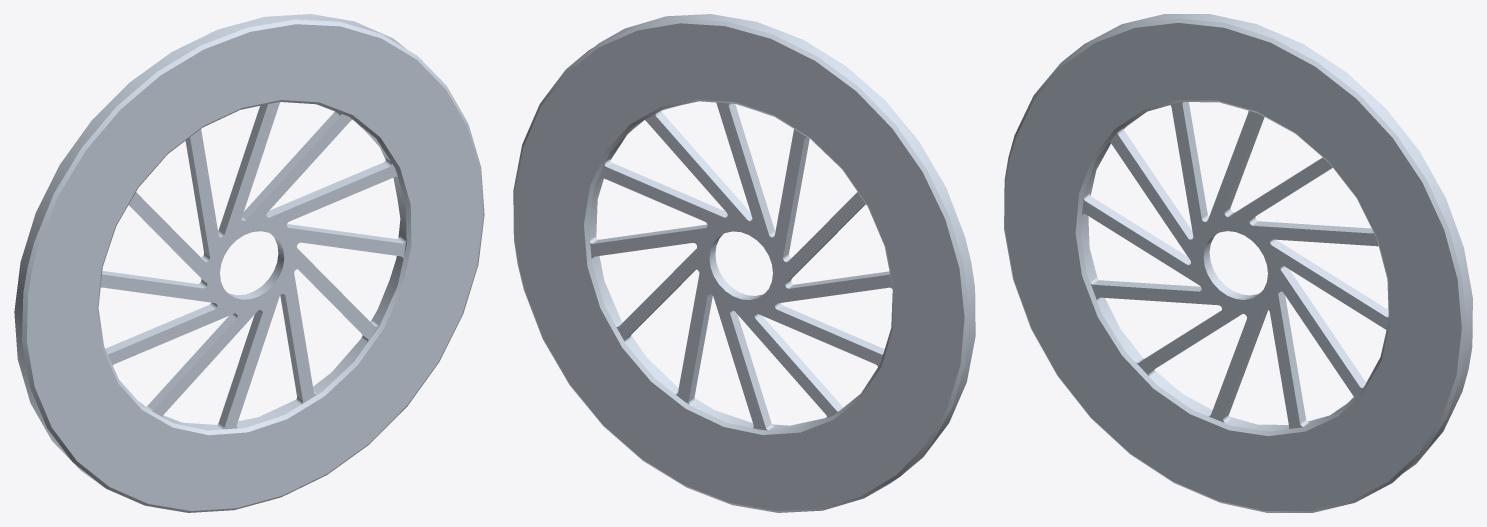
File: RB-039_viewer.glb
3 views of the same model, side by side, from view 1: azimuth 30°, elevation 25°; view 2: azimuth 150°, elevation 25°; view 3: azimuth 330°, elevation 25° (orthographic).
Visible parts, largest first — view 1: basebody_imported1; view 2: basebody_imported1; view 3: basebody_imported1.
Boxes of the visible parts, x1,y1,x2,y2 form: basebody_imported1: [14, 14, 484, 512]; basebody_imported1: [513, 14, 975, 512]; basebody_imported1: [1004, 14, 1472, 512].
Bounding box in the file's own units: 0.0205 × 0.0205 × 0.00114.
